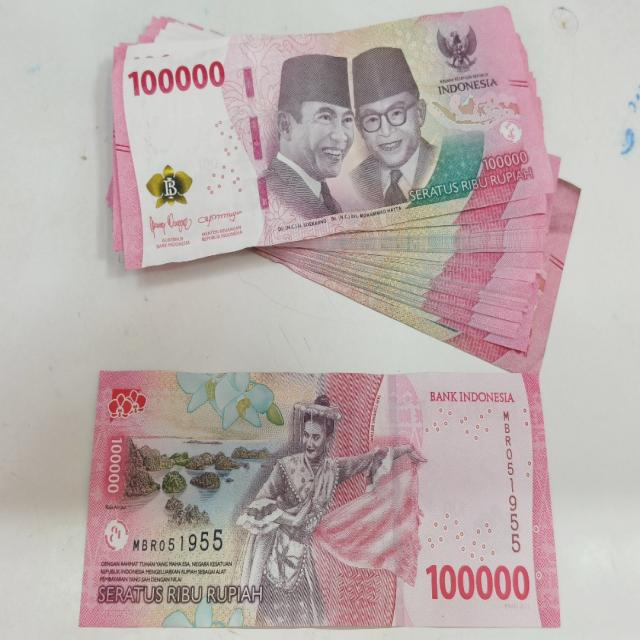seratus ribu rupiah: (78, 369, 561, 629), (113, 6, 558, 270)
